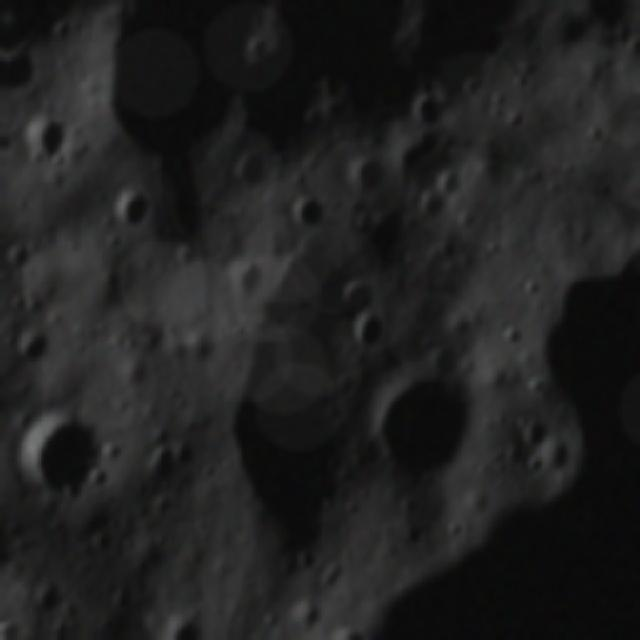crater: (84, 2, 261, 173), (360, 364, 478, 484), (20, 412, 106, 512), (386, 129, 459, 202), (16, 108, 72, 172), (138, 436, 180, 501), (333, 274, 382, 320), (407, 90, 456, 136), (109, 186, 157, 232), (348, 308, 390, 360), (12, 328, 59, 374), (4, 49, 45, 100), (224, 256, 267, 302), (21, 577, 68, 617), (175, 328, 222, 368), (226, 149, 268, 193), (344, 158, 384, 202), (287, 192, 328, 234), (284, 599, 322, 635), (120, 353, 151, 396), (348, 208, 383, 240), (417, 192, 448, 228), (520, 418, 548, 456), (522, 452, 550, 485)
